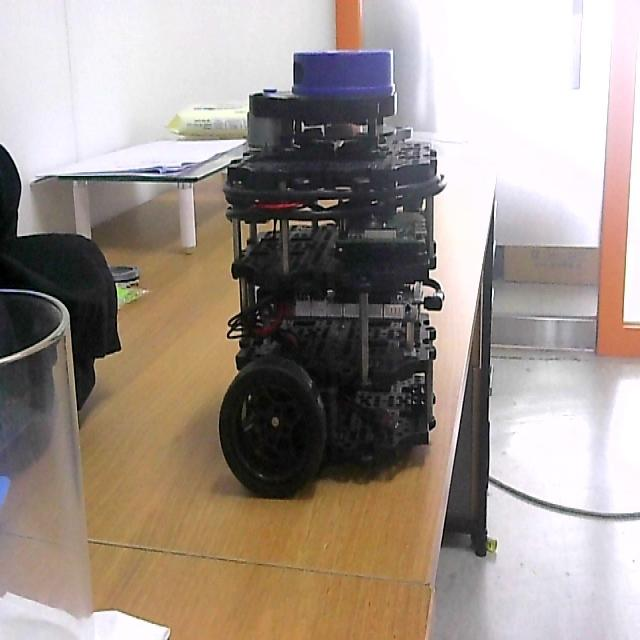turtle: (217, 48, 445, 495)
